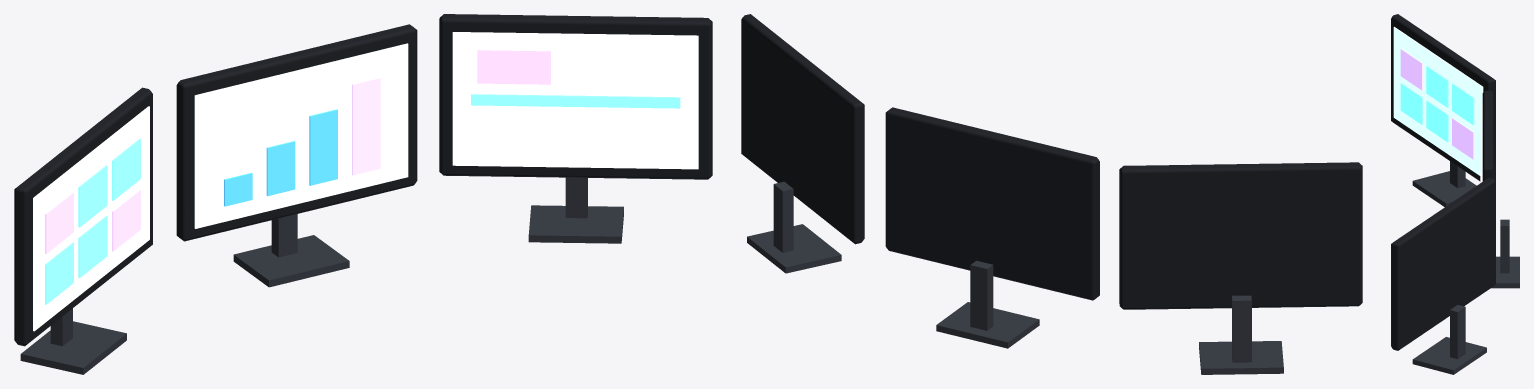
File: station_processing_ausstattung_1_2.glb
The picture shows the model from 3 angles, left to right: view 1: azimuth 30°, elevation 25°; view 2: azimuth 150°, elevation 25°; view 3: azimuth 270°, elevation 25°; orthographic projection. The views are drawn at different scales.
Parts seen in each view (by area): view 1: station_processing_ausstattung_1_2; view 2: station_processing_ausstattung_1_2; view 3: station_processing_ausstattung_1_2.
Part boxes in pixels (bbox=[...]): station_processing_ausstattung_1_2: bbox=[14, 14, 712, 374]; station_processing_ausstattung_1_2: bbox=[741, 14, 1362, 374]; station_processing_ausstattung_1_2: bbox=[1391, 14, 1519, 374].
Size of the model in its own units: 1.47 by 0.434 by 0.346.
